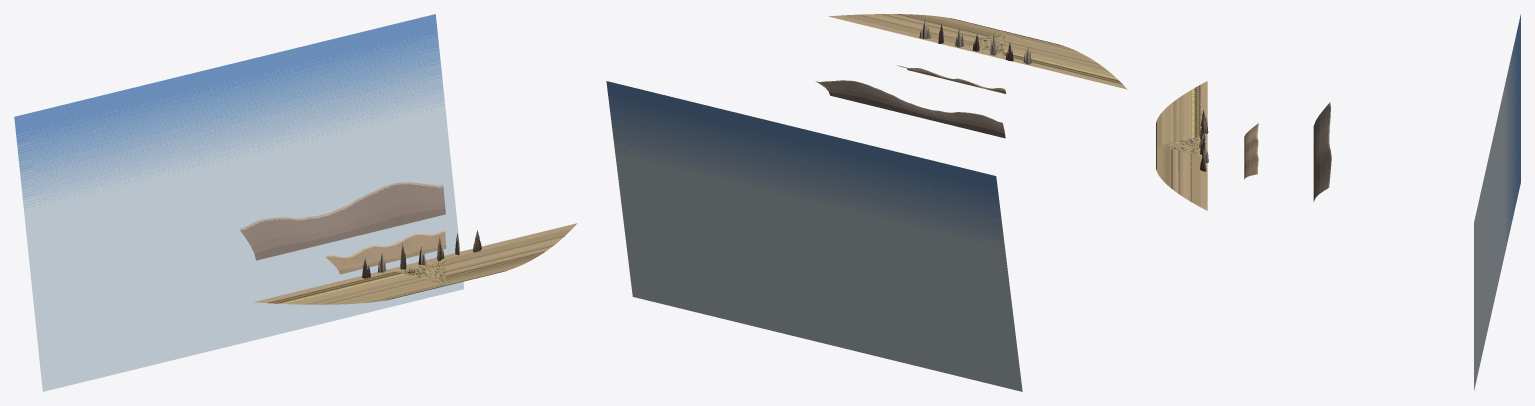
Rendered from bg_mountain.glb.
The picture shows the model from 3 angles, left to right: view 1: azimuth 30°, elevation 25°; view 2: azimuth 150°, elevation 25°; view 3: azimuth 270°, elevation 25°; orthographic projection. The views are drawn at different scales.
Visible parts, largest first — view 1: sky, ground, unlit_mtn_far, unlit_mtn_near, mountain_decor; view 2: sky, ground, unlit_mtn_far, mountain_decor; view 3: sky, ground, unlit_mtn_far, unlit_mtn_near, mountain_decor.
Boxes of the visible parts, x1,y1,x2,y2 form: sky: [14, 14, 464, 391]; ground: [254, 223, 577, 304]; unlit_mtn_far: [239, 182, 445, 260]; unlit_mtn_near: [324, 230, 446, 274]; mountain_decor: [362, 230, 481, 278]; sky: [606, 81, 1022, 391]; ground: [828, 14, 1127, 89]; unlit_mtn_far: [815, 80, 1005, 138]; mountain_decor: [919, 19, 1031, 64]; sky: [1474, 14, 1520, 390]; ground: [1156, 81, 1207, 210]; unlit_mtn_far: [1313, 102, 1331, 201]; unlit_mtn_near: [1244, 123, 1258, 179]; mountain_decor: [1170, 110, 1208, 171].
Bounding box in the file's own units: 104 × 59.92 × 94.79.
Materials: 5 (4 with a texture image).
